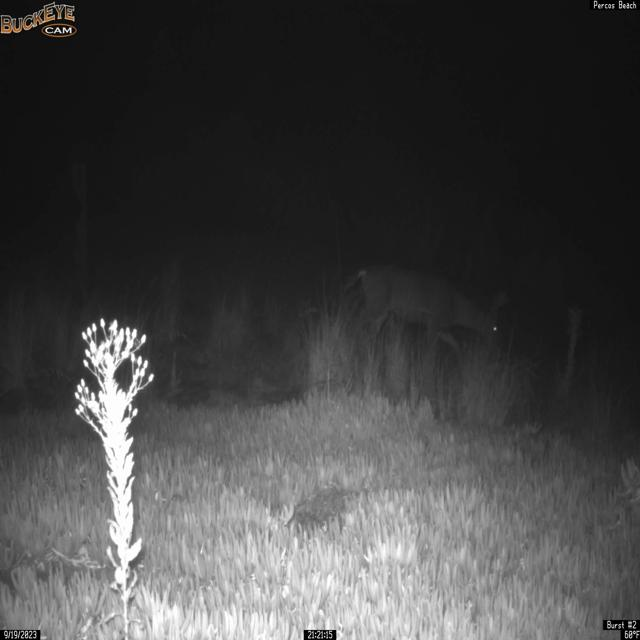deer: (346, 262, 510, 368)
